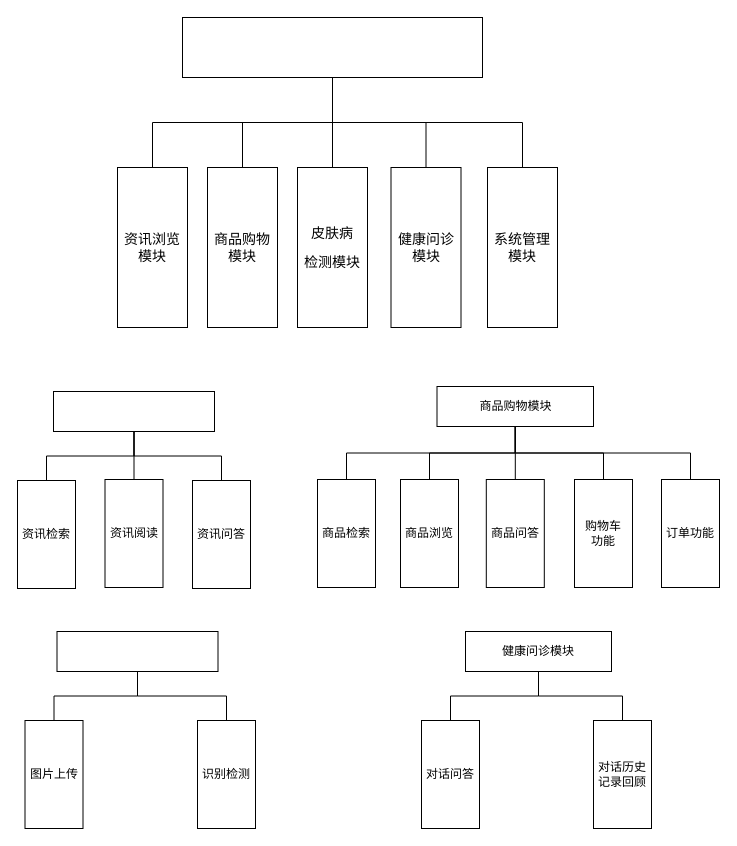
This 737x846 diagram has some shape labels left out. The shapes that lost their labels are listed below. From the top down, each one's centre as x and y in pixels, then its label:
At point 332,47: "生活保健智慧平台".
At point 133,411: "资讯浏览模块".
At point 137,651: "皮肤病检测模块".
